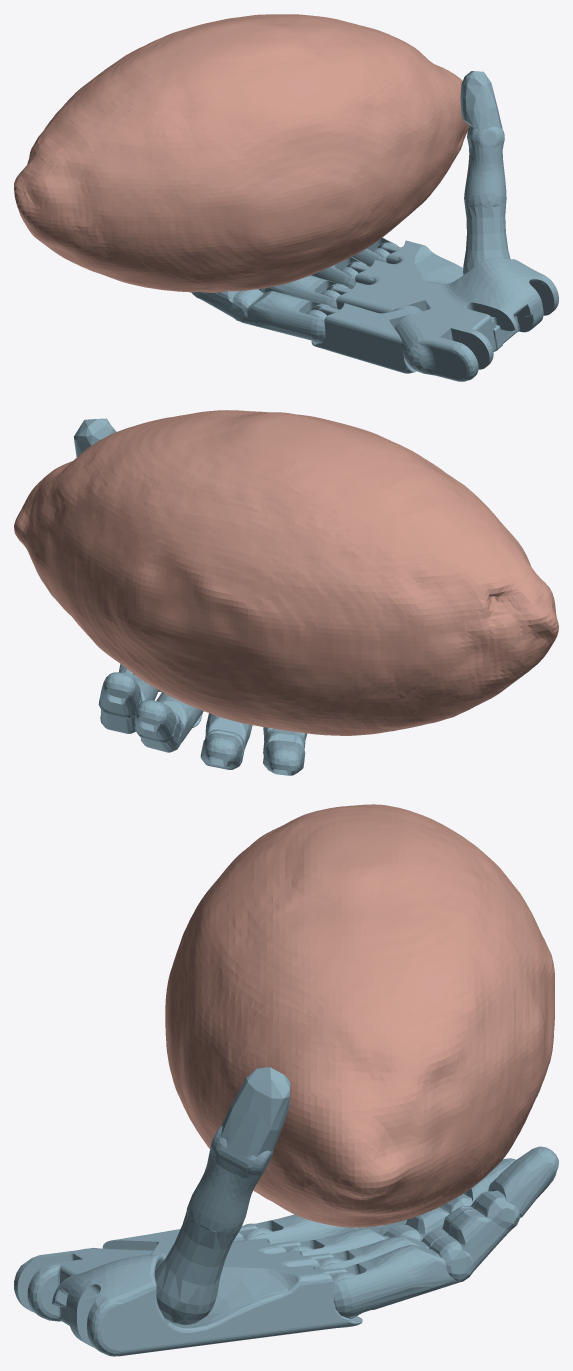
File: 0_joint.glb
3 renders of one model, top to bottom at view 1: azimuth 30°, elevation 25°; view 2: azimuth 150°, elevation 25°; view 3: azimuth 270°, elevation 25°, orthographic. The views are drawn at different scales.
Visible parts, largest first — view 1: world; view 2: world; view 3: world.
Boxes of the visible parts, <box> form: world: <box>14,14,558,381</box>; world: <box>14,410,558,775</box>; world: <box>14,804,558,1356</box>.
Bounding box in the file's own units: 1.8 × 1.1 × 1.35.
